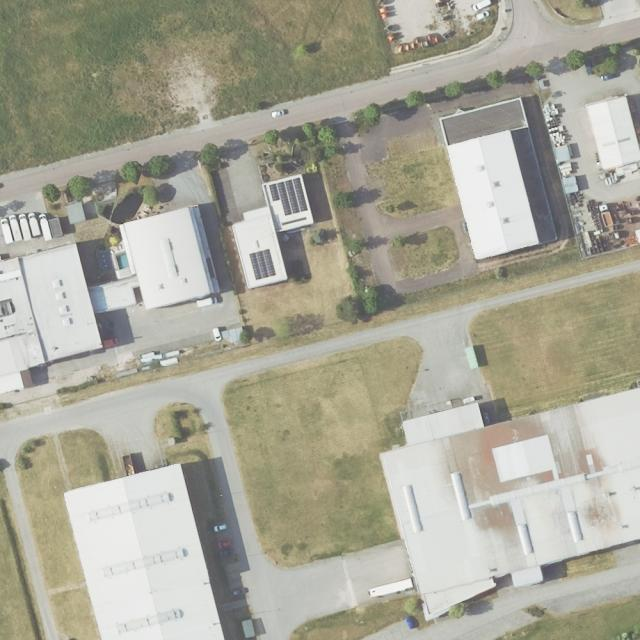PV: (269, 177, 309, 216), (248, 248, 276, 280)
